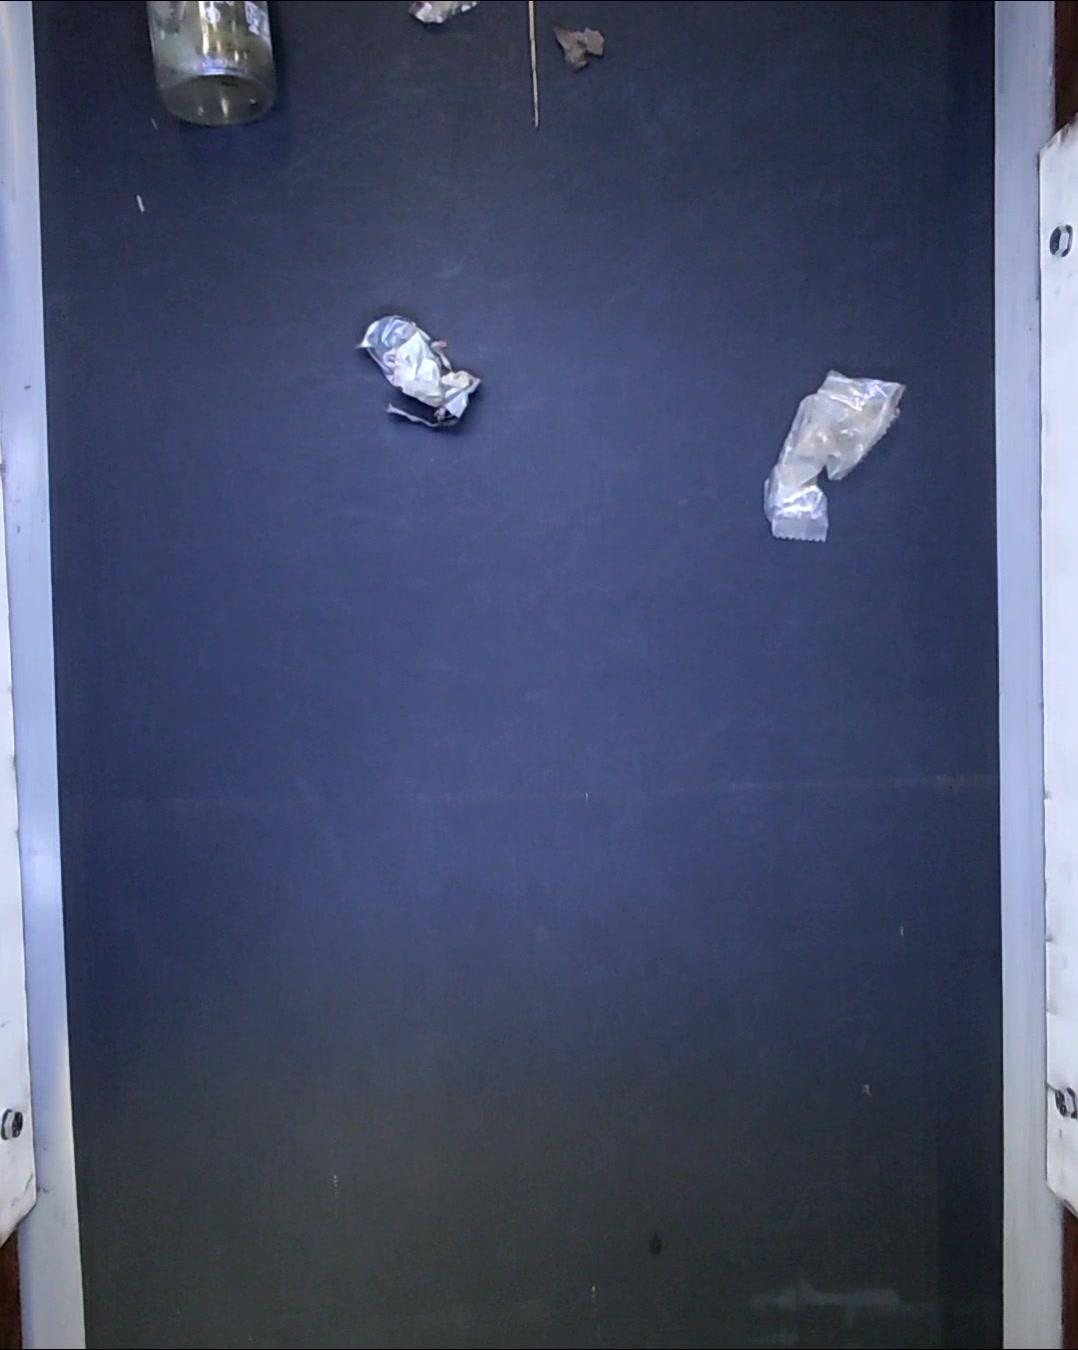Plastic folies of stukken daarvan 2.5- 50 cm: (760, 364, 913, 559), (356, 307, 487, 439)
